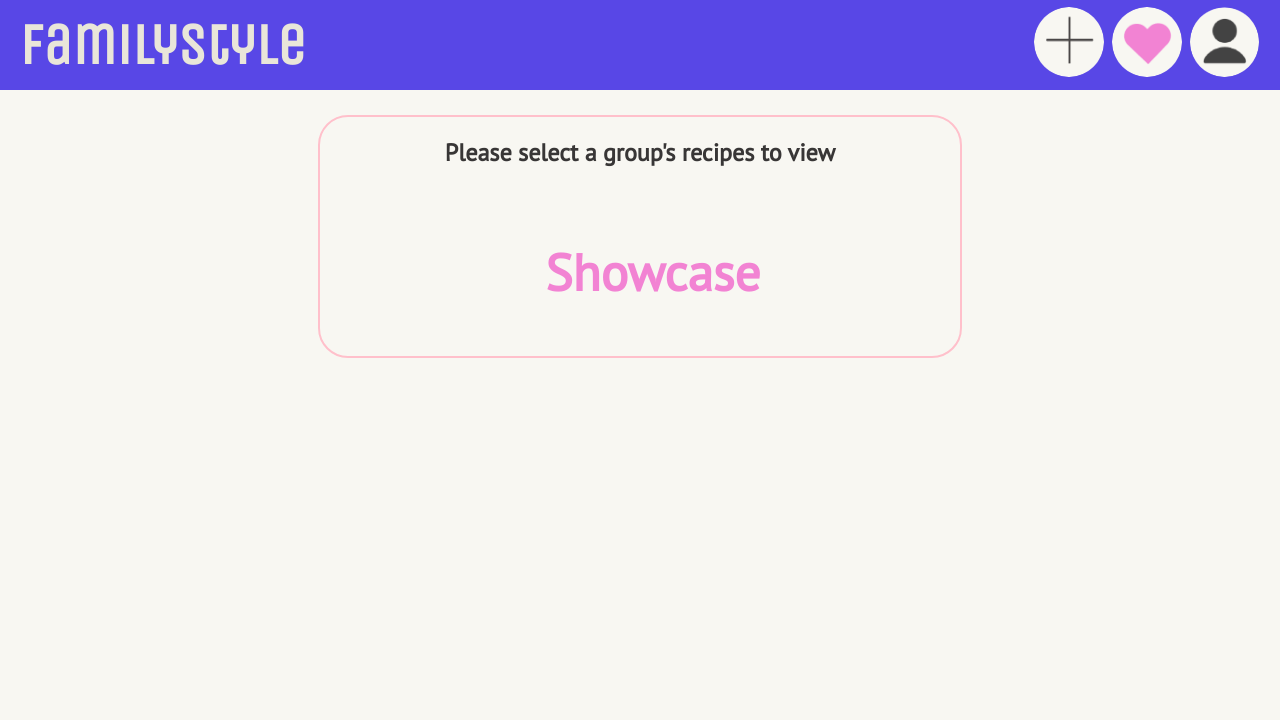
Test: On load page and recipe display › Should be able to toggle notes section of recipe link display
The image size is (1280, 720).
Step 1. Click the link "Showcase" → x=653, y=272, box [545,239,760,305]
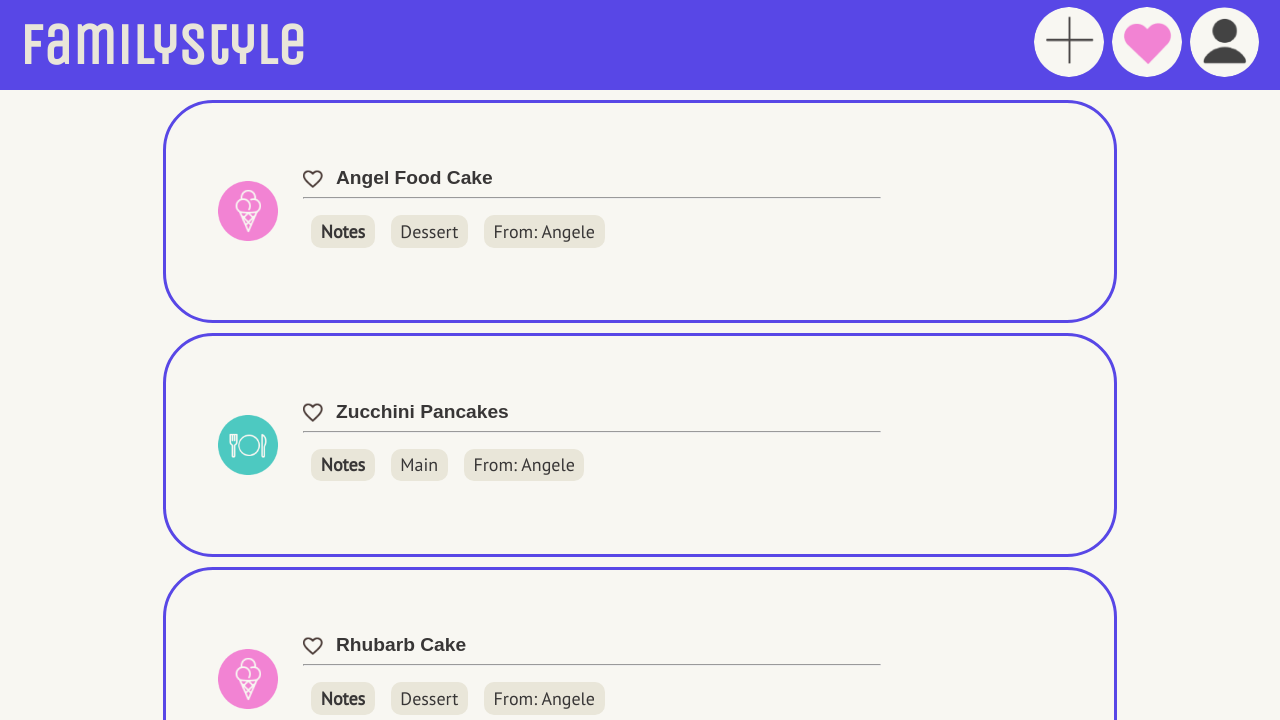
Step 2. Click the button with class "toggle" below "Angel Food Cake" → x=343, y=232, box [311,215,375,248]
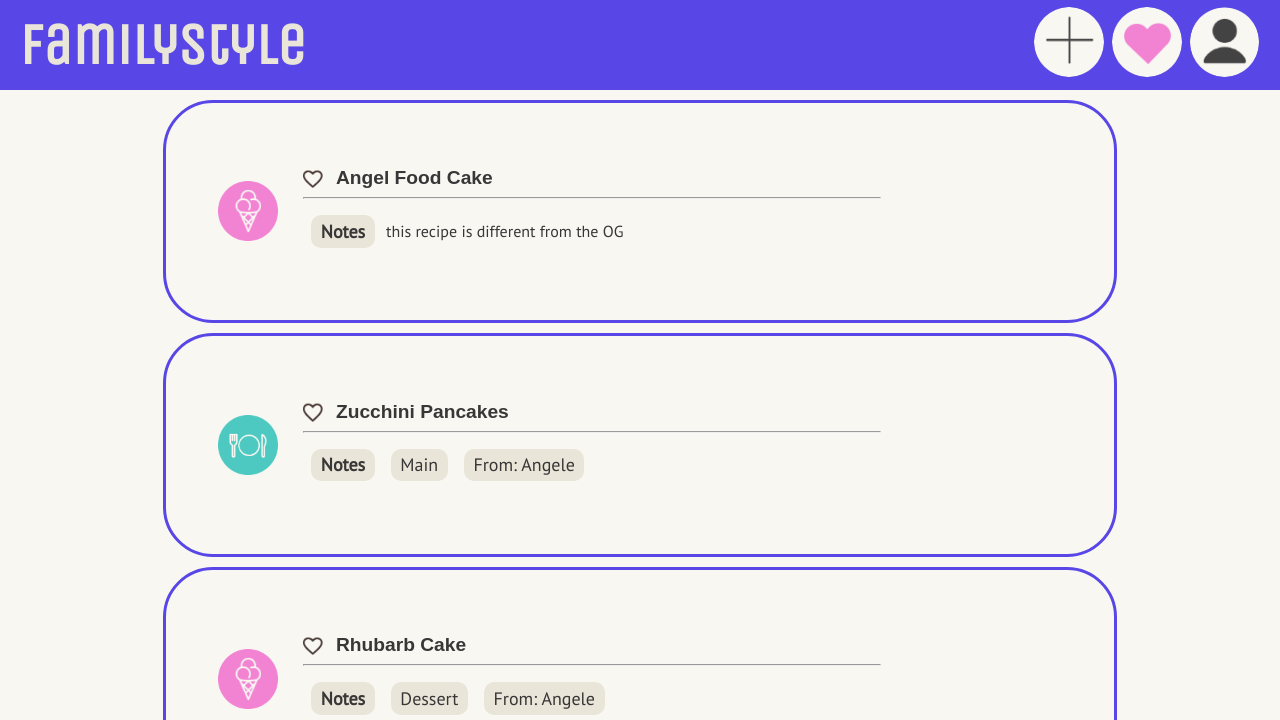
expect the text "this recipe is different from the OG" is shown: met, box [386,221,624,241]
Step 3. Click the button with class "toggle" next to "this recipe is different from the OG" → x=343, y=232, box [311,215,375,248]
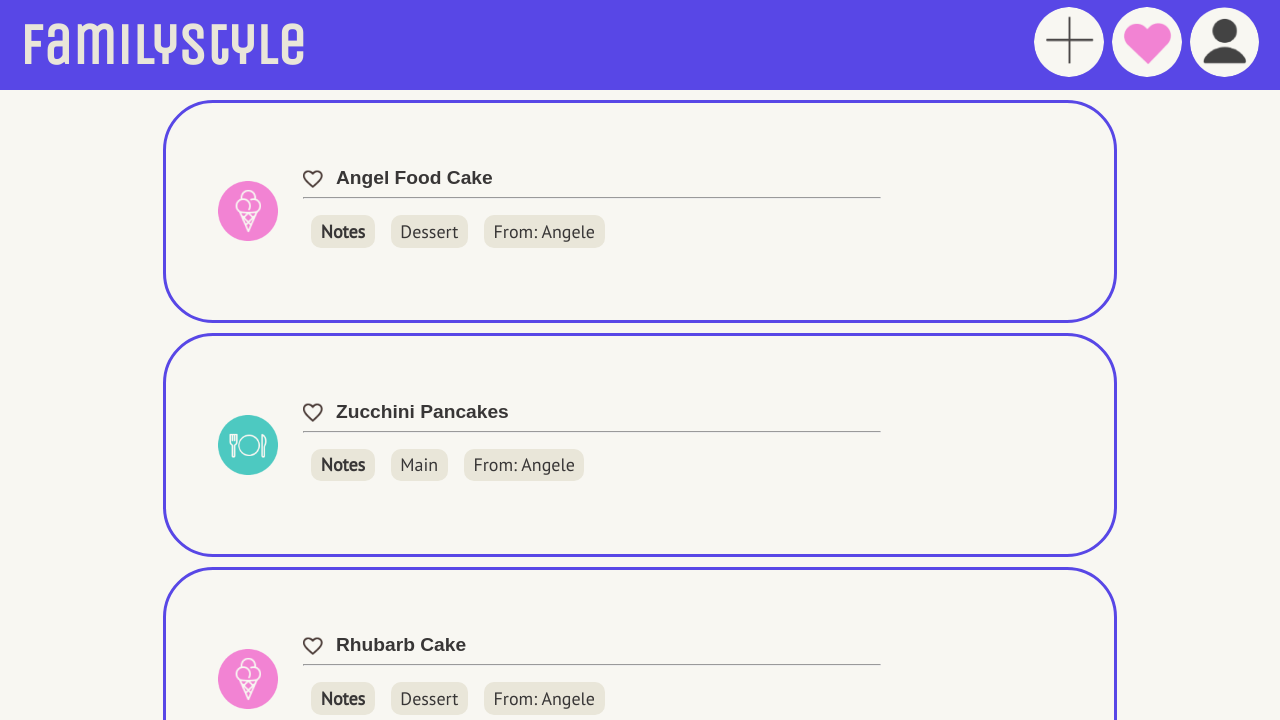
expect the heading "From: Angele" below "Angel Food Cake" is shown: met, box [484,215,605,248]
